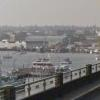Boat: (21, 54, 74, 75)
